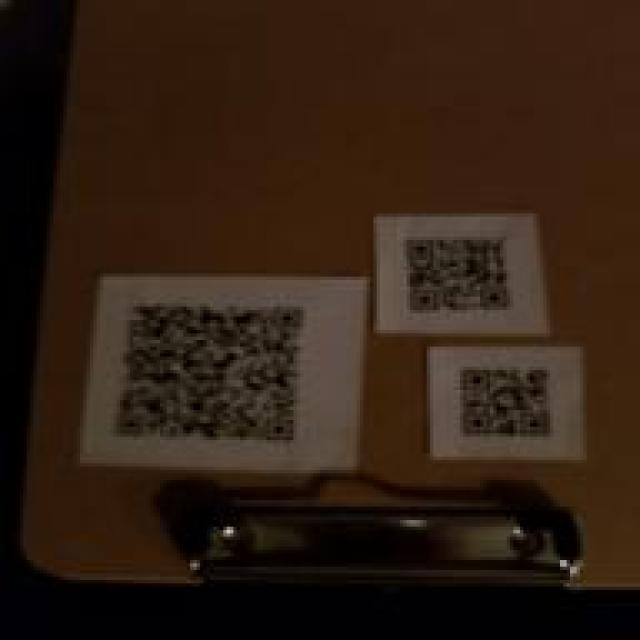qr_code: (115, 303, 303, 441), (407, 237, 511, 314), (460, 366, 551, 438)
